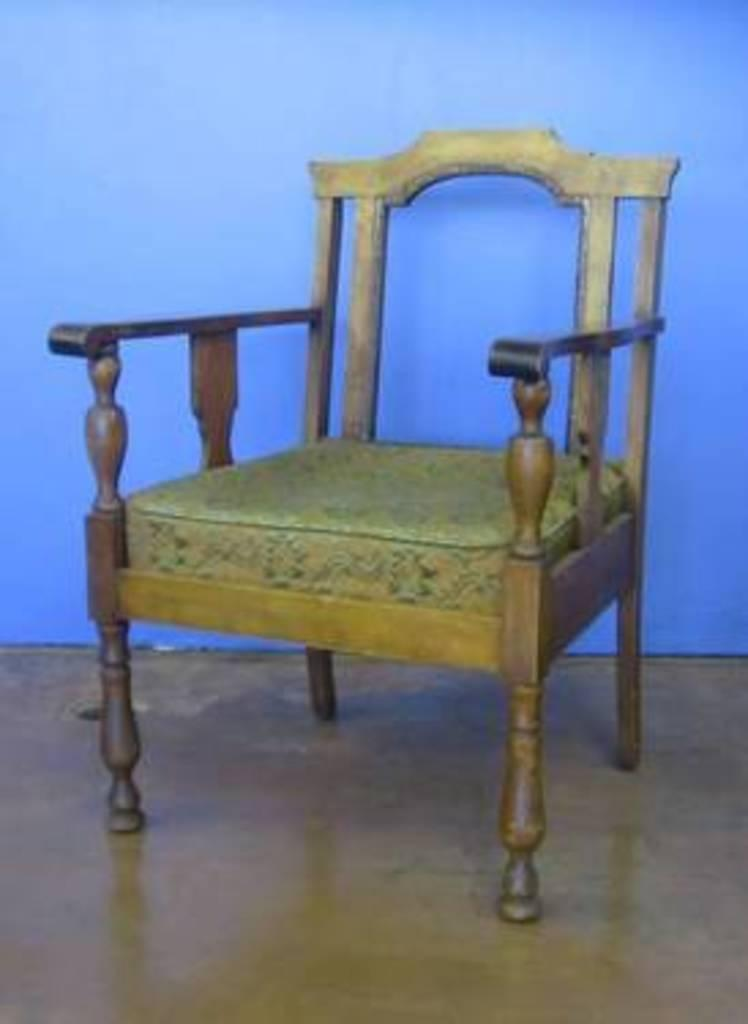Chair: (66, 74, 699, 893)
